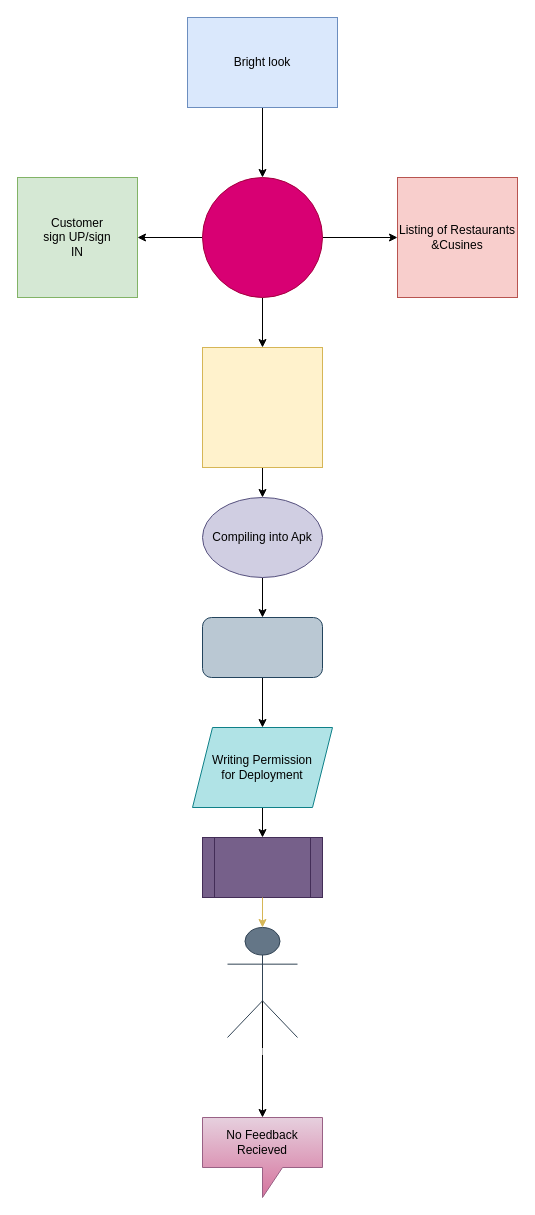
The diagram is 535 pixels wide and 1215 high, and some of its shapes have lost their labels. The shapes that lost their labels are listed below. From the top down, each one's box as (x1, y1, x2, y2) in pixels, then its label:
(202, 176, 322, 298): Design UI/UX
(202, 346, 322, 468): Checkout Paga & RTS
(202, 616, 322, 678): No Bugs Found
(202, 836, 322, 898): Pushing The APK To Clould or AppStore
